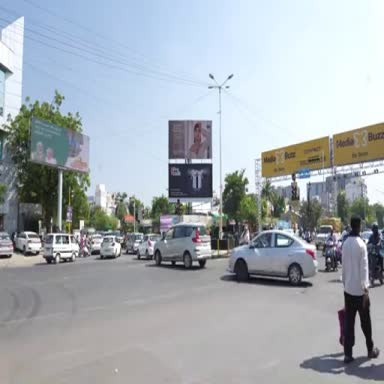Car: (228, 230, 318, 286), (154, 224, 212, 268), (44, 233, 78, 263), (136, 234, 161, 259), (15, 232, 41, 256), (315, 226, 332, 256), (100, 236, 121, 259), (126, 233, 143, 254), (0, 232, 13, 258), (90, 234, 102, 254), (362, 231, 372, 244)
